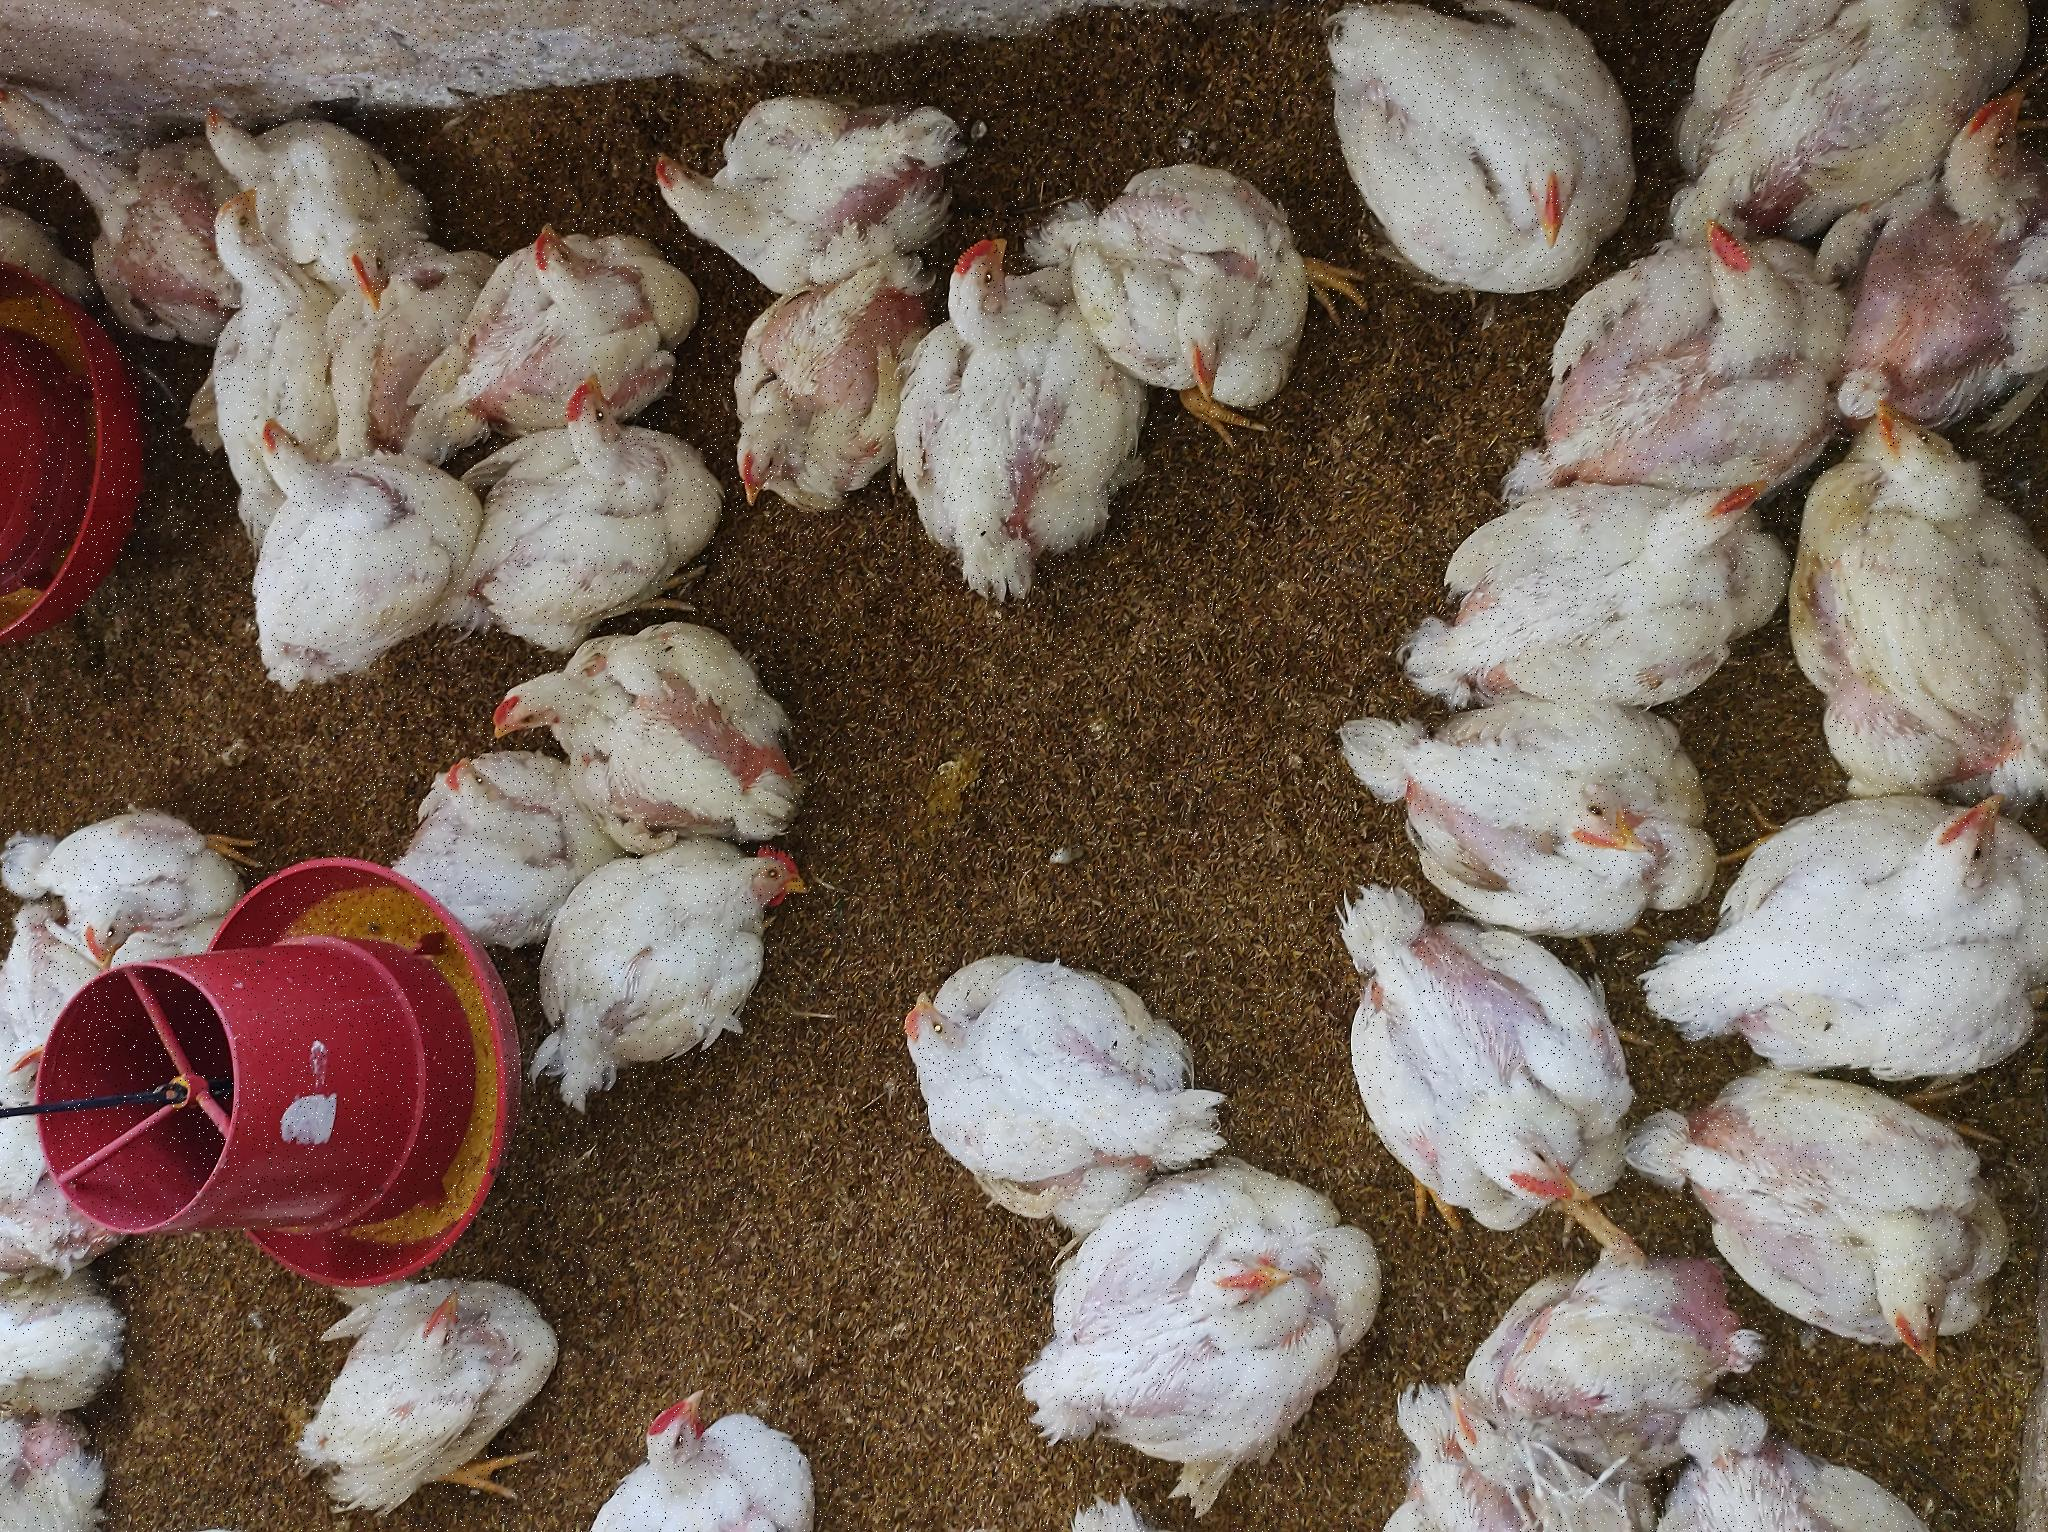Pollos: (304, 895, 676, 1231), (71, 1030, 352, 1443), (327, 1263, 703, 1532), (1068, 1083, 1387, 1384), (592, 496, 911, 797), (968, 880, 1265, 1176), (422, 509, 685, 835), (3, 315, 286, 603), (1256, 616, 1472, 980), (587, 1303, 914, 1532), (1256, 1294, 1533, 1532), (1063, 460, 1337, 697), (835, 240, 1134, 454), (890, 423, 1108, 706), (1028, 167, 1337, 364), (1005, 711, 1261, 948), (582, 343, 825, 571), (547, 14, 763, 266), (2, 599, 183, 805), (1226, 2, 1474, 127), (1351, 180, 1495, 391), (816, 1439, 1091, 1532), (2, 1374, 196, 1495), (98, 2, 241, 153), (26, 1464, 339, 1532), (422, 2, 502, 85)
